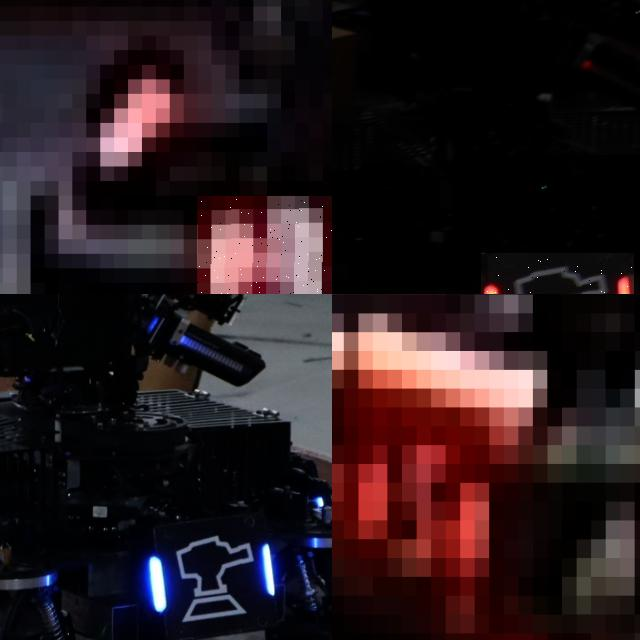Bs: (147, 528, 280, 626)
R3: (197, 195, 332, 294)
R5: (332, 369, 503, 614)
Rs: (481, 253, 634, 294)
